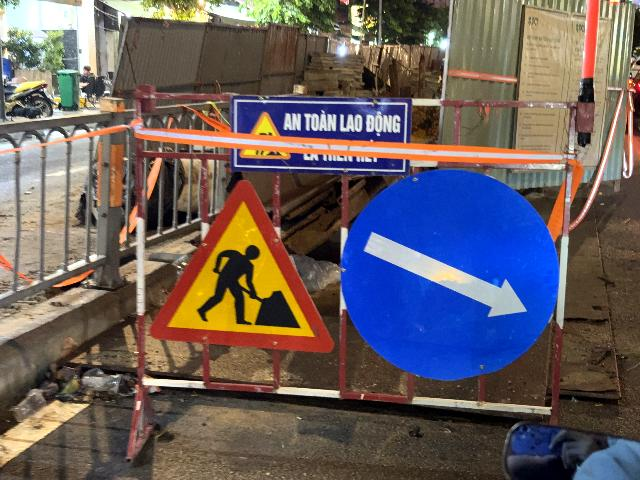cong-truong-dang-thi-cong: (149, 179, 336, 354)
huong-phai-di-vong-chuong-ngai-vat: (340, 169, 559, 381)
